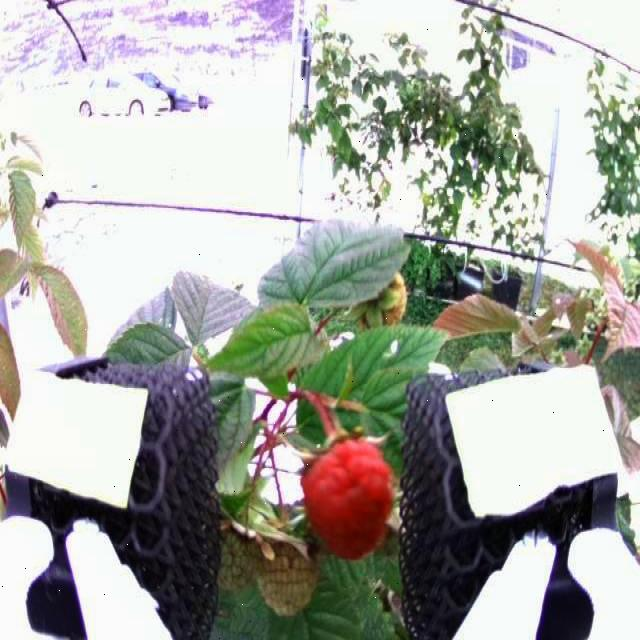Riped berries: (298, 433, 395, 560)
